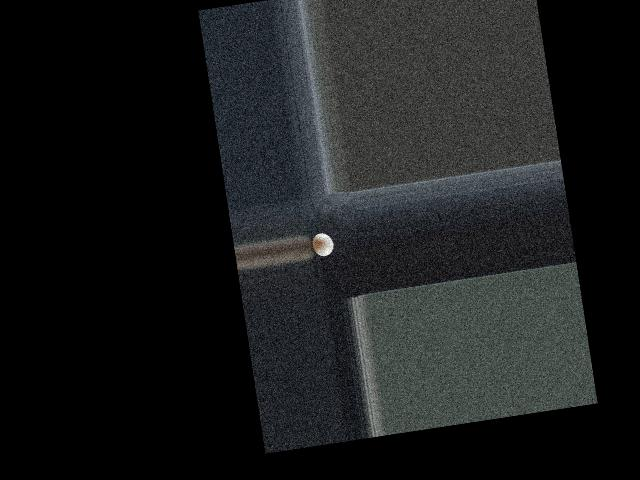egg: (310, 231, 335, 257)
